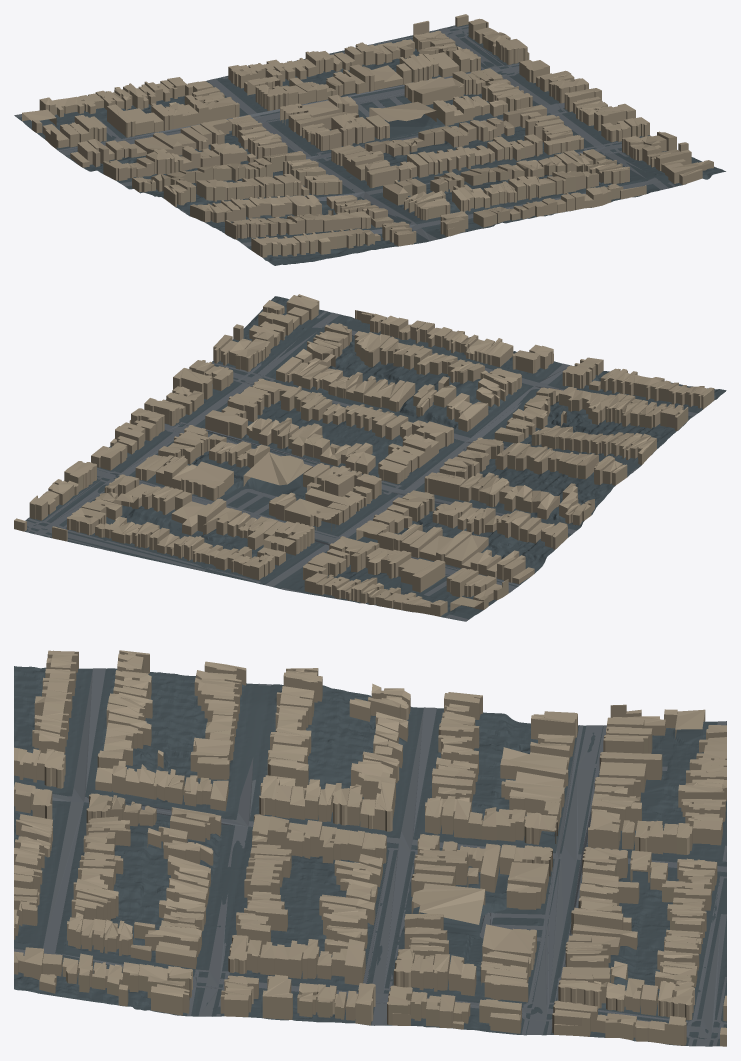
The model's file is epsg26910-1432-10881.lod0.glb.
The picture shows the model from 3 angles, top to bottom: view 1: azimuth 30°, elevation 25°; view 2: azimuth 150°, elevation 25°; view 3: azimuth 270°, elevation 25°; orthographic projection. The views are drawn at different scales.
Parts seen in each view (by area): view 1: epsg26910-1432-10881-lod0; view 2: epsg26910-1432-10881-lod0; view 3: epsg26910-1432-10881-lod0.
Part boxes in pixels (x1,y1,x2,y2): epsg26910-1432-10881-lod0: [14, 14, 725, 265]; epsg26910-1432-10881-lod0: [14, 294, 726, 621]; epsg26910-1432-10881-lod0: [14, 650, 726, 1046].
Bounding box in the file's own units: 384 × 56.68 × 384.
